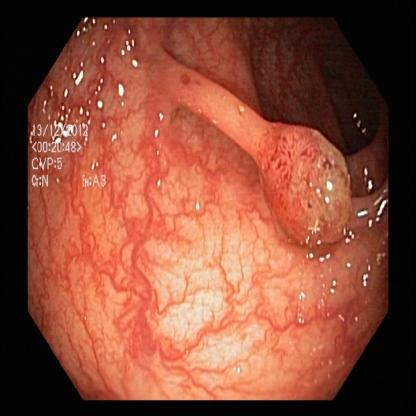Labels: (25, 121, 119, 190)
Polyps: (264, 111, 356, 246)
